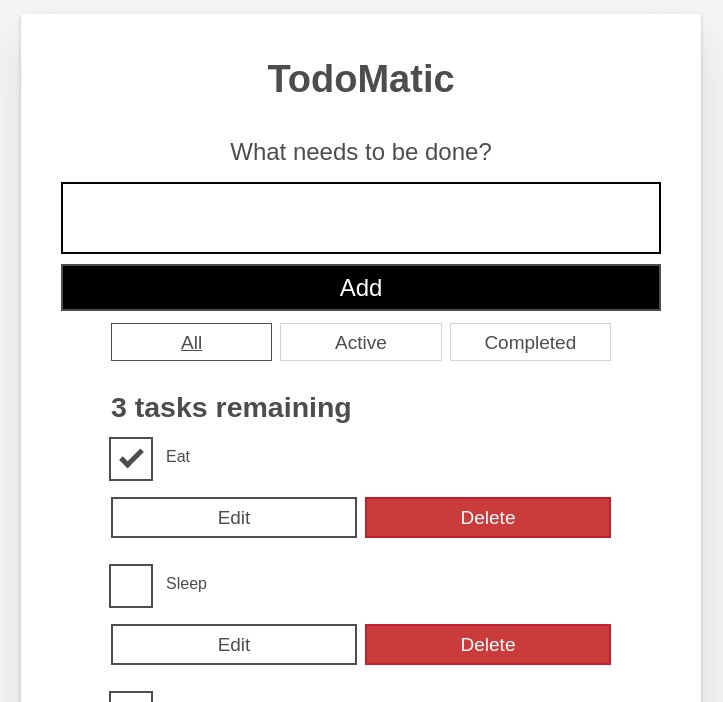
Scenario: To-do app › can delete todo item
This screenshot has width=723, height=702.
Expected: the list item "Eat Edit Delete" is shown, [111,439,611,538]
Click the 1st button "Delete" at (488, 518), box [365,497,611,538]
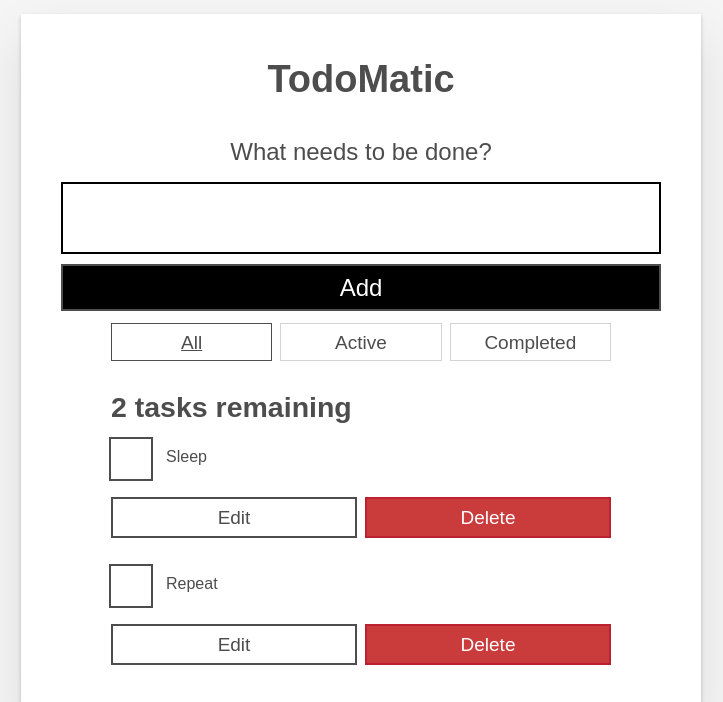
Expected: the text "Eat" is not shown
Expected: the number of list items is 2, [111,439,611,538]; [111,566,611,665]
